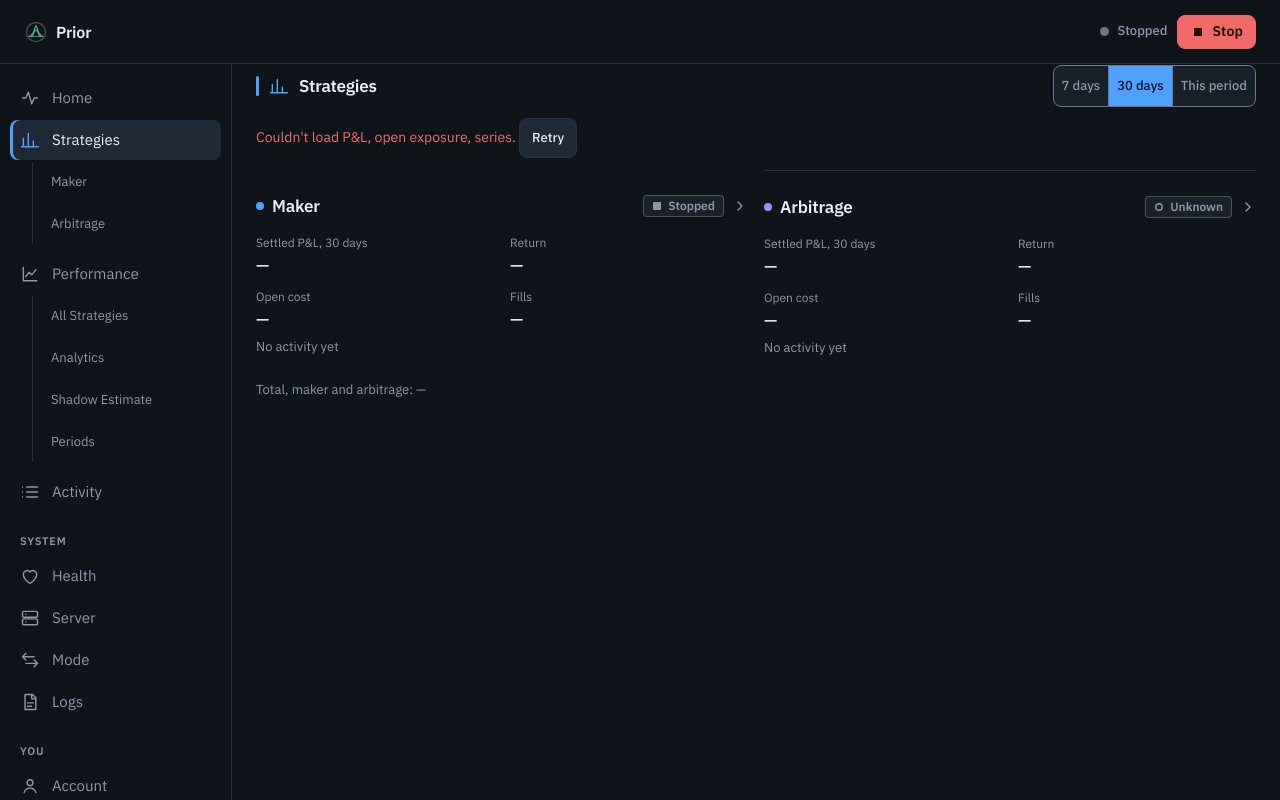
Test: PageTitle in the app › header Stop stays visible and clickable while the bar is shown
The width and height of the screenshot is (1280, 800).
Click the button with aria-label "stop the bot".
click(1217, 32)  # box [1178,14,1256,48]
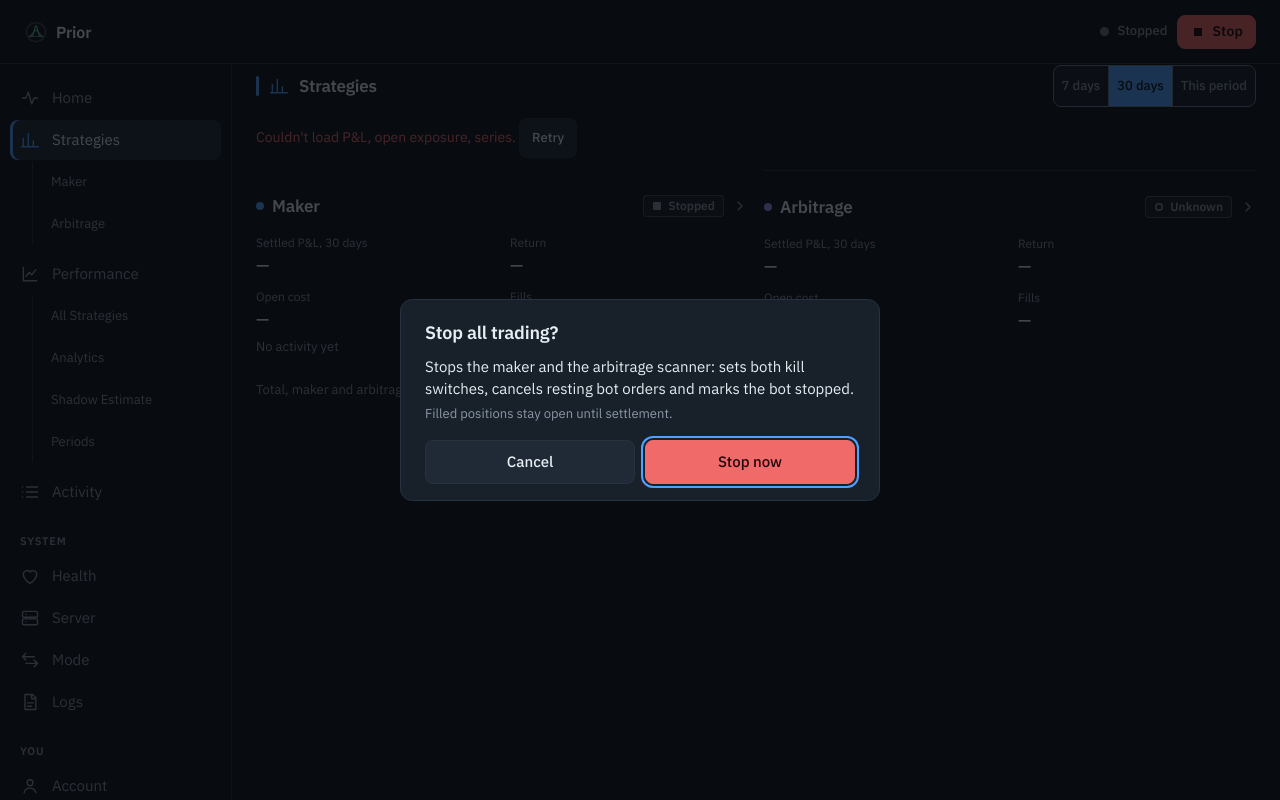
Check: the button "Stop now" is shown, box [645,440,855,484]
